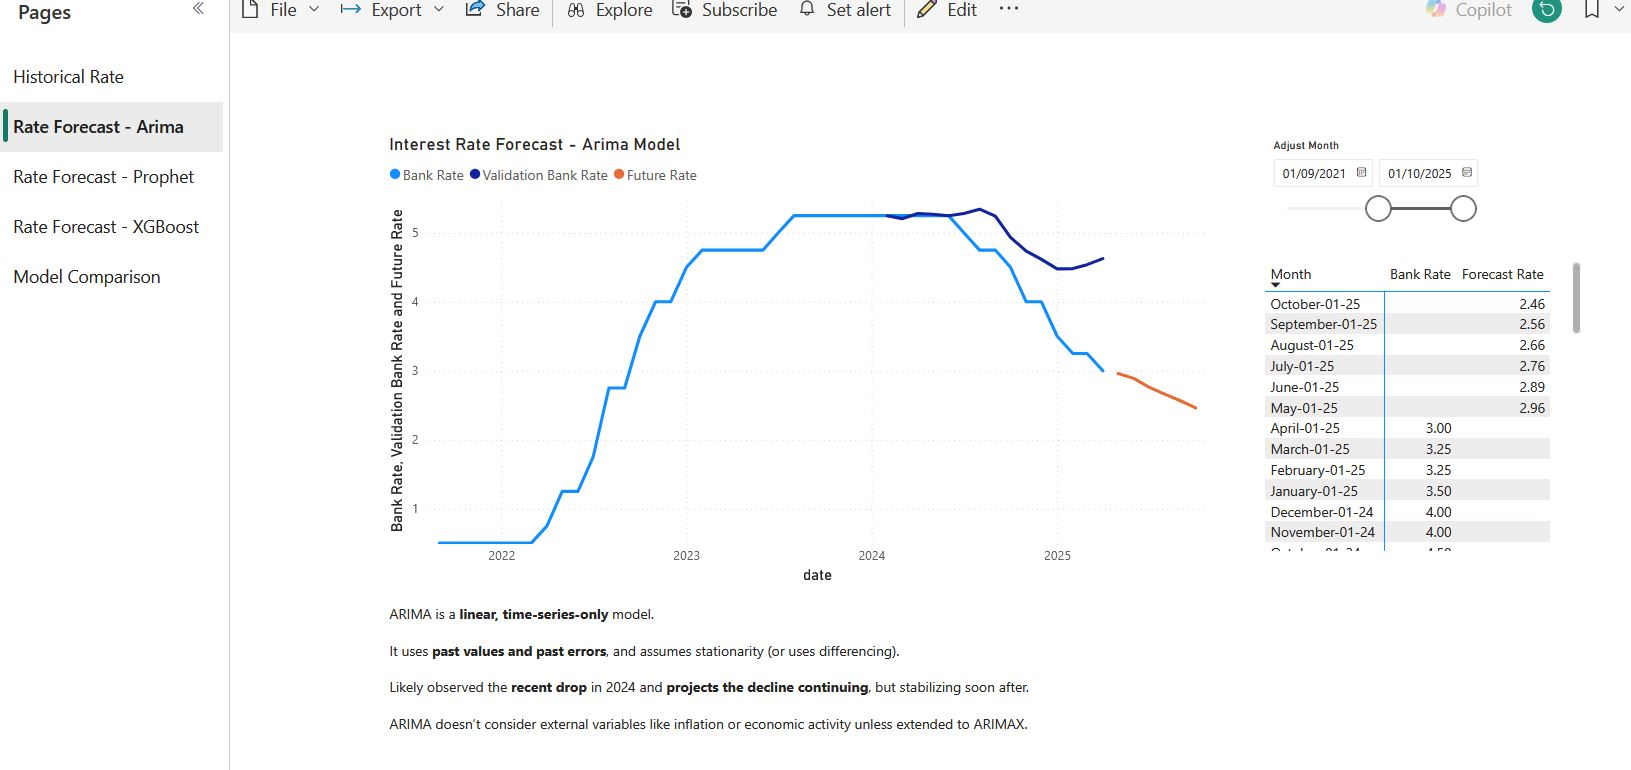

What the dashboard file says about the page in this screenshot:
{"tool":"powerbi","page":{"name":"Rate Forecast - Arima","canvas":[1280,720],"ordinal":1},"visuals":[{"type":"lineChart","title":"Interest Rate Forecast - Arima Model","fields":{"Category":["model_forecast_arima.date"],"Y":["Sum(model_forecast_arima.v39078)","Sum(model_forecast_arima.yhat_test)","Sum(model_forecast_arima.yhat_future)"]},"box":[37,96.1,798.6,437.7],"z":0},{"type":"pivotTable","fields":{"Rows":["model_forecast_arima.date"],"Values":["Sum(model_forecast_arima.v39078)","Sum(model_forecast_arima.yhat_future)"]},"box":[879.6,215.4,314.2,288.2],"z":1000},{"type":"slicer","fields":{"Values":["model_forecast_arima.date"]},"box":[879.6,96.1,216.8,109.8],"z":2000},{"type":"textbox","box":[37,544,799,176],"z":2001}]}

Visuals, with their boxes on the page's 1280x720 design canvas (x1, y1, x2, y2). These are canvas units, not pixel positions in the 1631x770 screenshot, which may show the page scaled, cropped or inside an application window:
"Interest Rate Forecast - Arima Model" lineChart: locate(37, 96, 836, 534)
pivotTable - model_forecast_arima.date x Sum(model_forecast_arima.v39078): locate(880, 215, 1194, 504)
slicer - model_forecast_arima.date: locate(880, 96, 1096, 206)
textbox: locate(37, 544, 836, 720)
